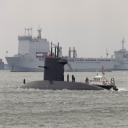submarine: (14, 44, 108, 92)
